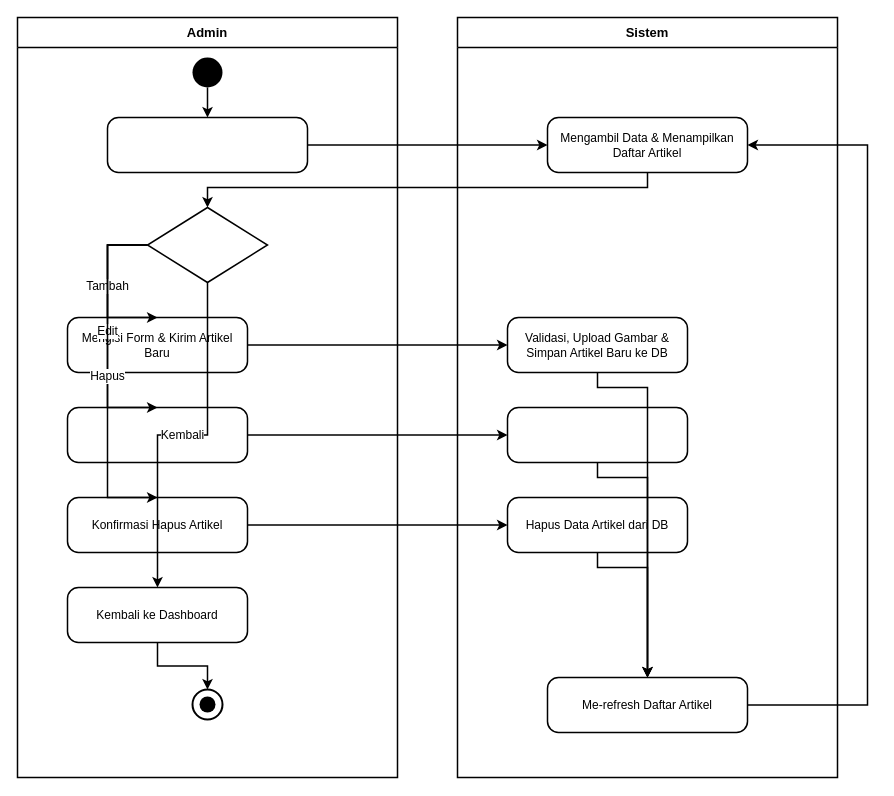
Some shapes in this 894 by 796 pixel diagram are drawn without their labels. The shapes that lost their labels are listed below. From the top down, each one's centre as x and y in pixels, then its label:
(207,144): Membuka Halaman Kelola Artikel
(207,244): Aksi Artikel?
(157,434): Mengubah Isi Form & Kirim Update
(597,434): Validasi & Update Artikel di DB
